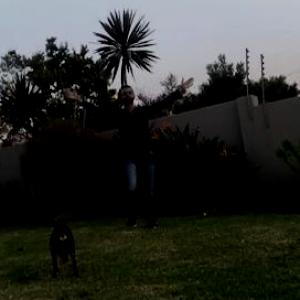takeoff: (55, 79, 181, 228)
